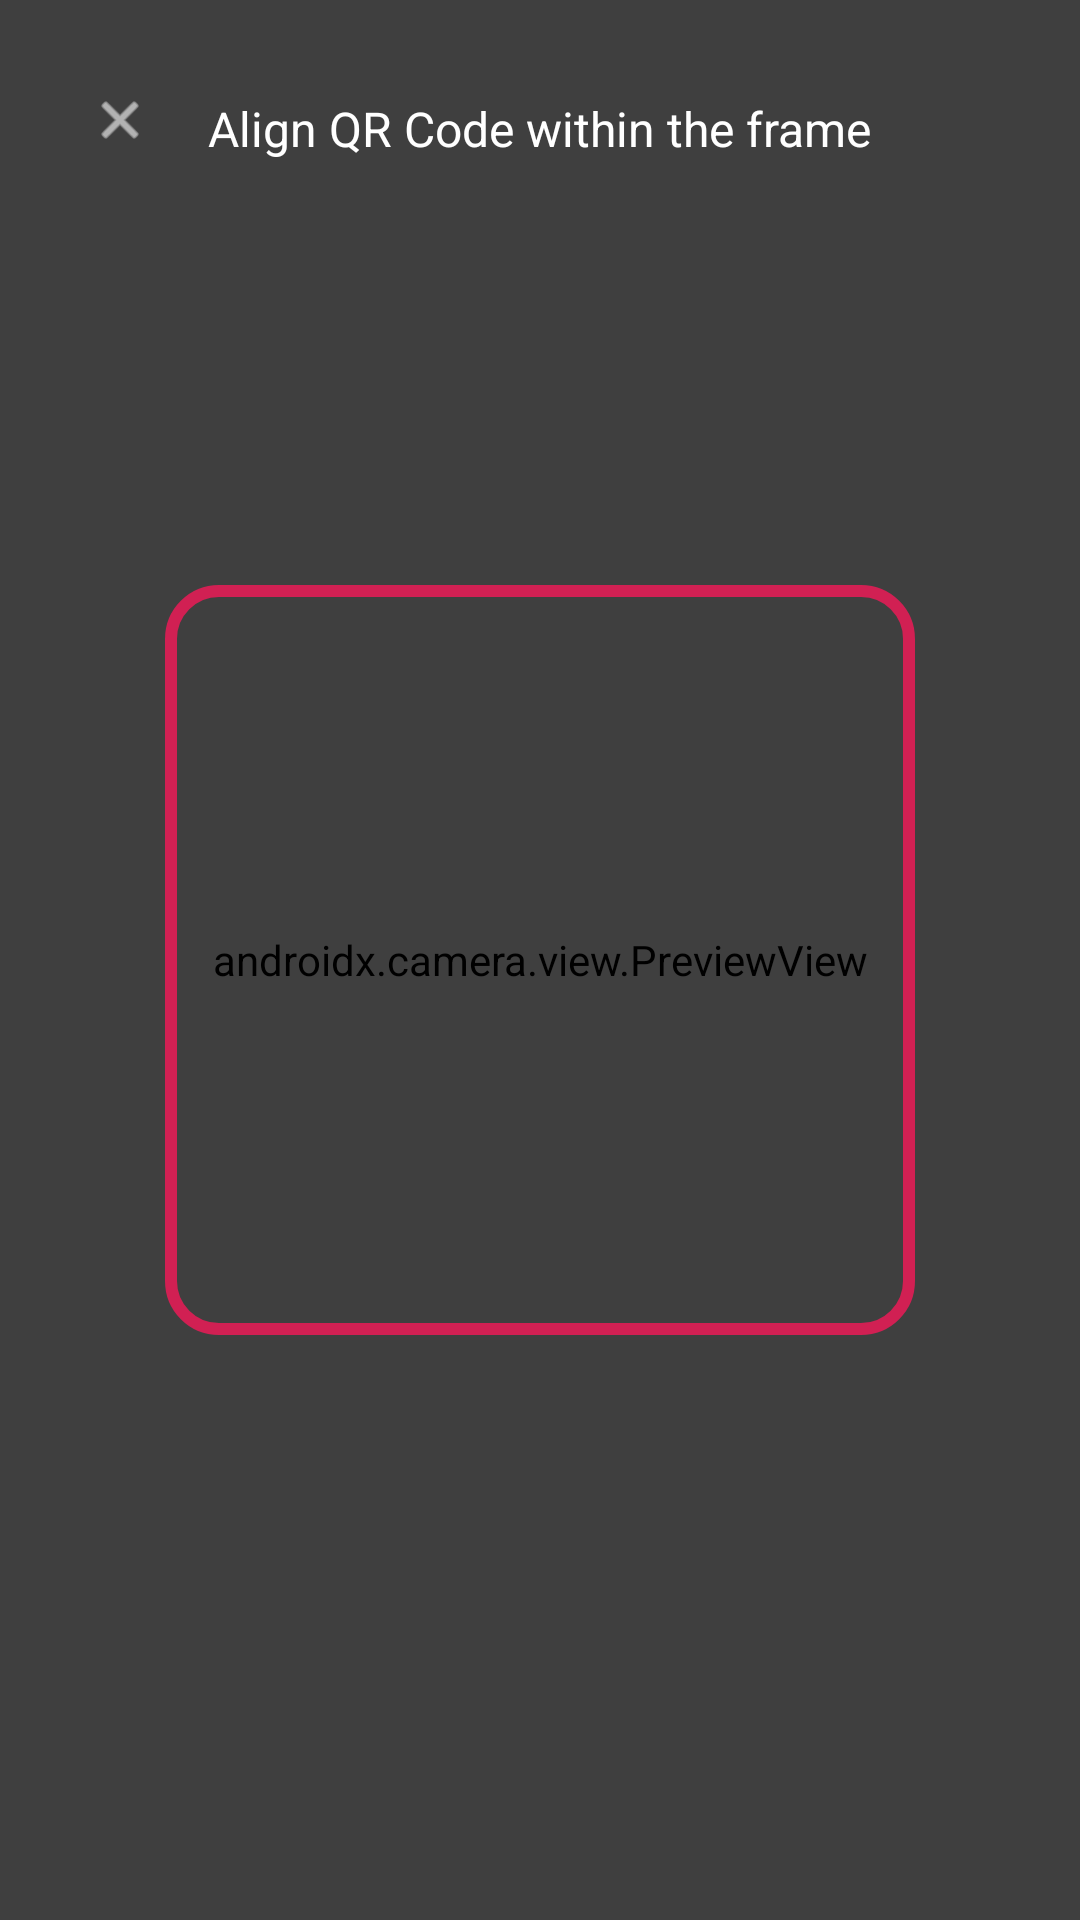

Point at icon controls on the screen. Image size 1080 × 1920, points as (x,y).
close clear cancel: (120,120)
